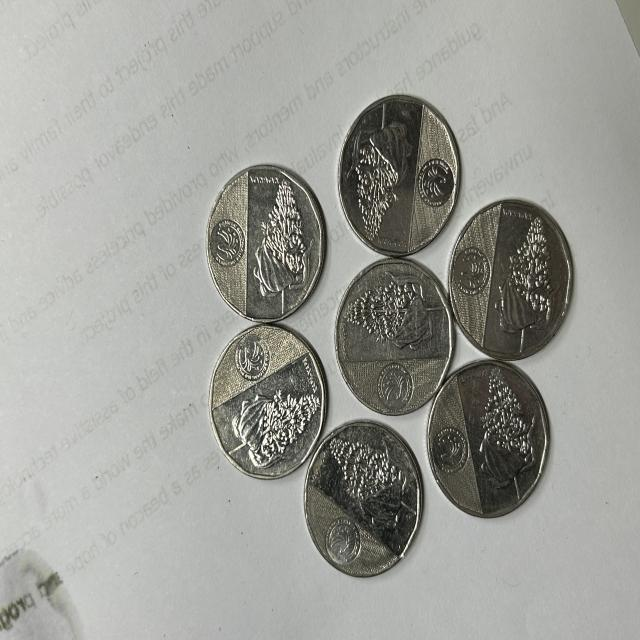10_New_Back: (464, 360, 538, 492), (324, 433, 410, 545), (498, 202, 552, 360), (353, 259, 434, 357), (254, 169, 307, 309), (348, 102, 398, 241), (224, 386, 313, 462)
